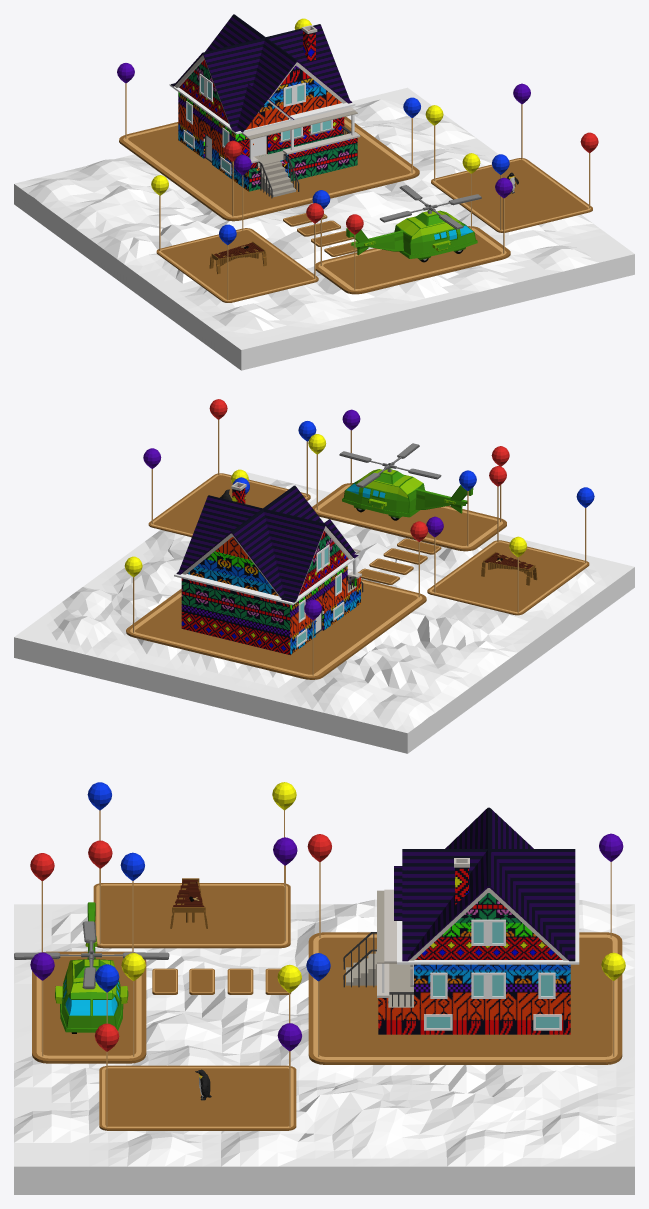
3 views of the same model, one above another, from view 1: azimuth 30°, elevation 25°; view 2: azimuth 150°, elevation 25°; view 3: azimuth 270°, elevation 25° (orthographic). The views are drawn at different scales.
Parts seen in each view (by area): view 1: Cube.013, Cube.966, VEHICLES_HELICOPTER, OBJRANDOM_MARIMBA; view 2: Cube.013, Cube.966, VEHICLES_HELICOPTER, OBJRANDOM_MARIMBA; view 3: Cube.013, Cube.966, VEHICLES_HELICOPTER, OBJRANDOM_MARIMBA.
Boxes of the visible parts, x1,y1,x2,y2 form: Cube.013: [14, 18, 634, 370]; Cube.966: [169, 14, 360, 198]; VEHICLES_HELICOPTER: [346, 185, 481, 262]; OBJRANDOM_MARIMBA: [209, 241, 266, 274]; Cube.013: [14, 399, 634, 753]; Cube.966: [174, 482, 363, 655]; VEHICLES_HELICOPTER: [339, 443, 473, 520]; OBJRANDOM_MARIMBA: [481, 551, 537, 585]; Cube.013: [14, 782, 634, 1194]; Cube.966: [343, 807, 579, 1034]; VEHICLES_HELICOPTER: [14, 902, 169, 1033]; OBJRANDOM_MARIMBA: [170, 878, 207, 928].
Bounding box in the file's own units: 4000 × 1840 × 4001.
40 materials, 5 textured.
